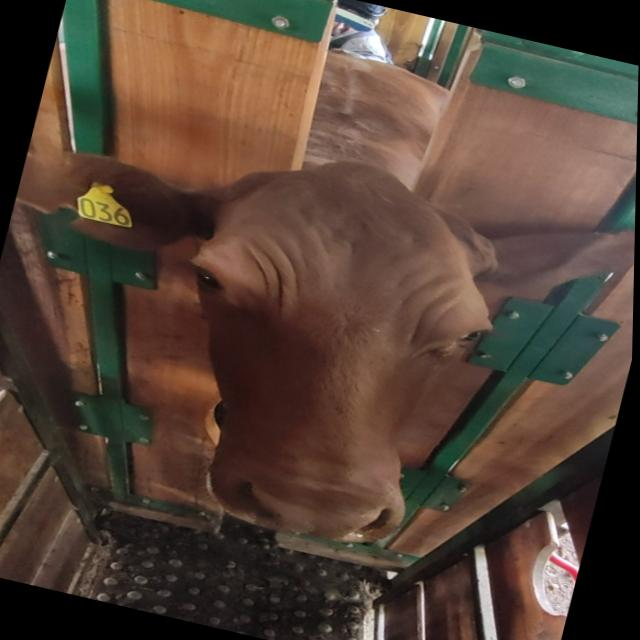cowFace: (130, 130, 526, 564)
